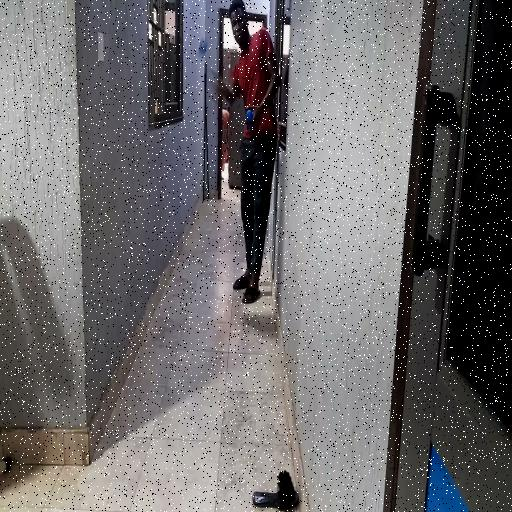plastic-ball: (196, 34, 209, 60)
